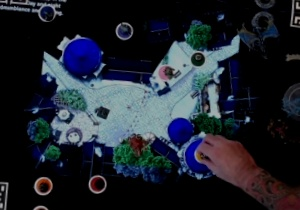blue: (36, 1, 57, 23)
green: (188, 48, 208, 67)
orange: (28, 172, 56, 198)
pink: (154, 62, 174, 84)
red: (85, 171, 108, 194)
violet: (111, 20, 134, 42)
yellow: (191, 142, 213, 165)
